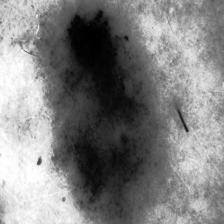Benign Marking or Mole: (38, 10, 160, 220)
